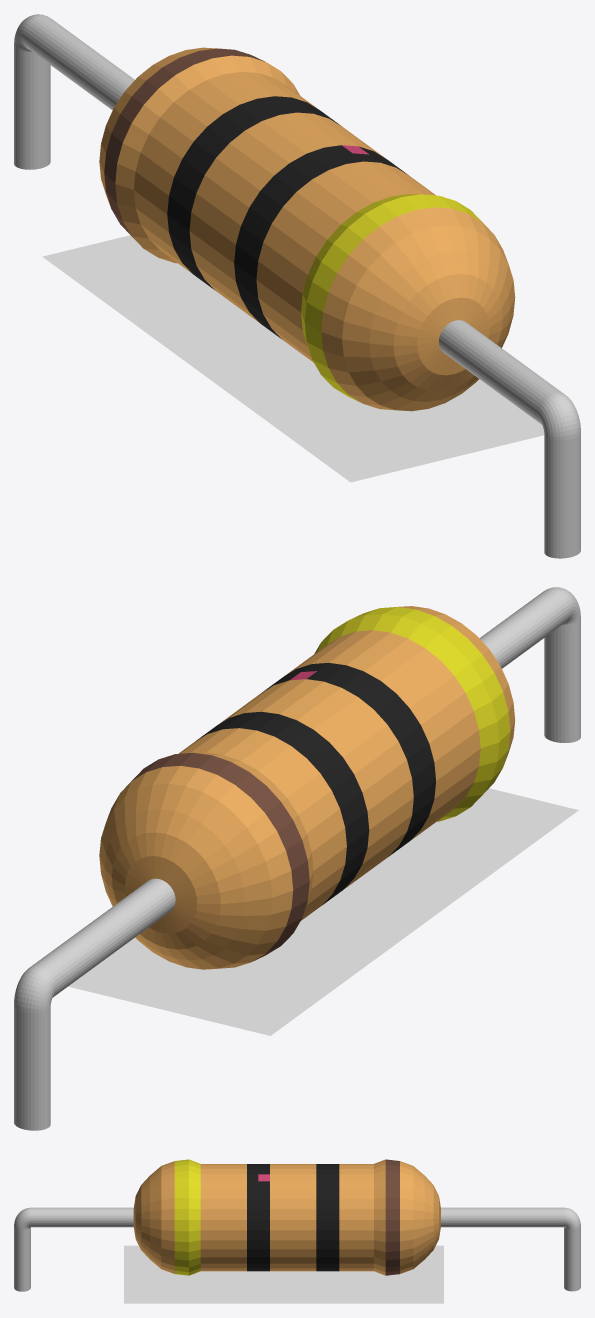
The model's file is R_12_defect.gltf.
The picture shows the model from 3 angles, top to bottom: view 1: azimuth 30°, elevation 25°; view 2: azimuth 150°, elevation 25°; view 3: azimuth 270°, elevation 25°; orthographic projection. The views are drawn at different scales.
Visible parts, largest first — view 1: R_12, R_12_plane; view 2: R_12, R_12_plane; view 3: R_12, R_12_plane.
Boxes of the visible parts, bbox=[...] form: R_12: bbox=[14, 14, 580, 558]; R_12_plane: bbox=[42, 235, 544, 482]; R_12: bbox=[14, 587, 580, 1130]; R_12_plane: bbox=[68, 788, 578, 1035]; R_12: bbox=[14, 1159, 580, 1291]; R_12_plane: bbox=[124, 1245, 443, 1303].
Size of the model in its own units: 0.0161 by 0.0159 by 0.0664.
